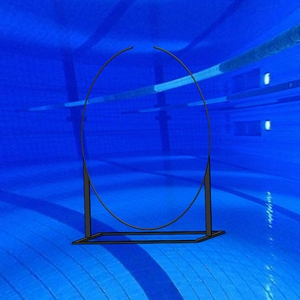circle: (72, 44, 227, 244)
